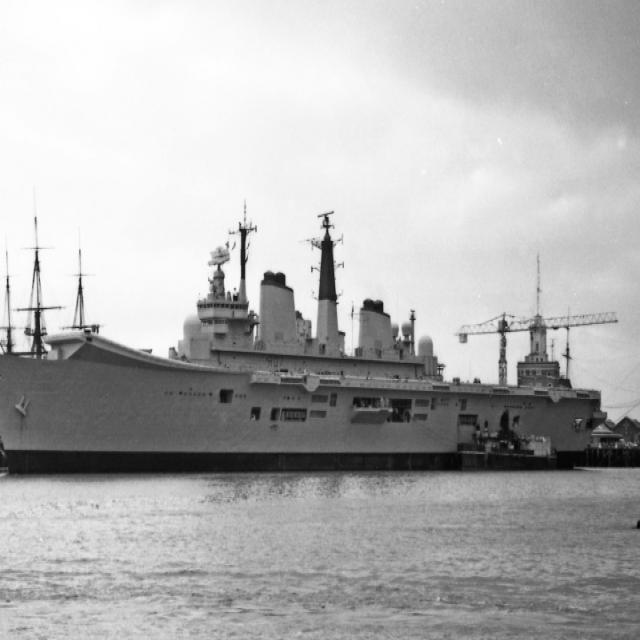Portanaves: (1, 205, 612, 479)
